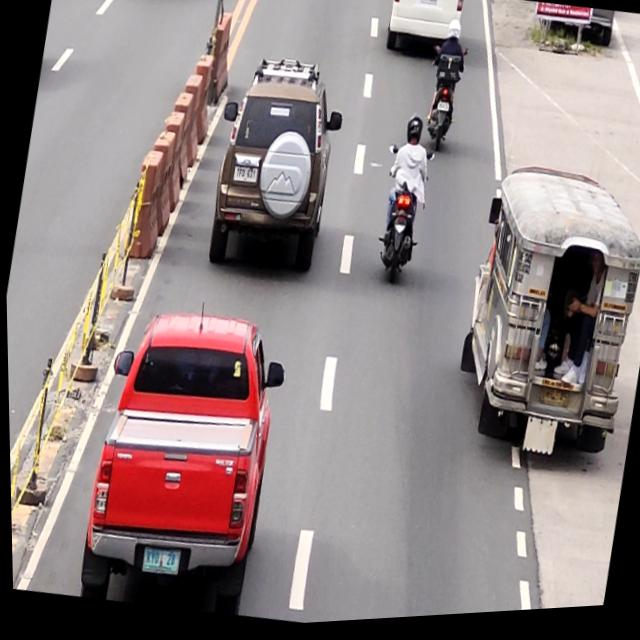Car: (67, 294, 295, 627), (193, 52, 352, 288), (382, 0, 466, 67)
Jeep: (440, 161, 640, 480)
License-Plate: (136, 547, 178, 580), (534, 390, 568, 415), (231, 166, 258, 186), (419, 0, 440, 10), (435, 106, 451, 118)
Motorcycle: (365, 146, 438, 294), (415, 46, 470, 164)
